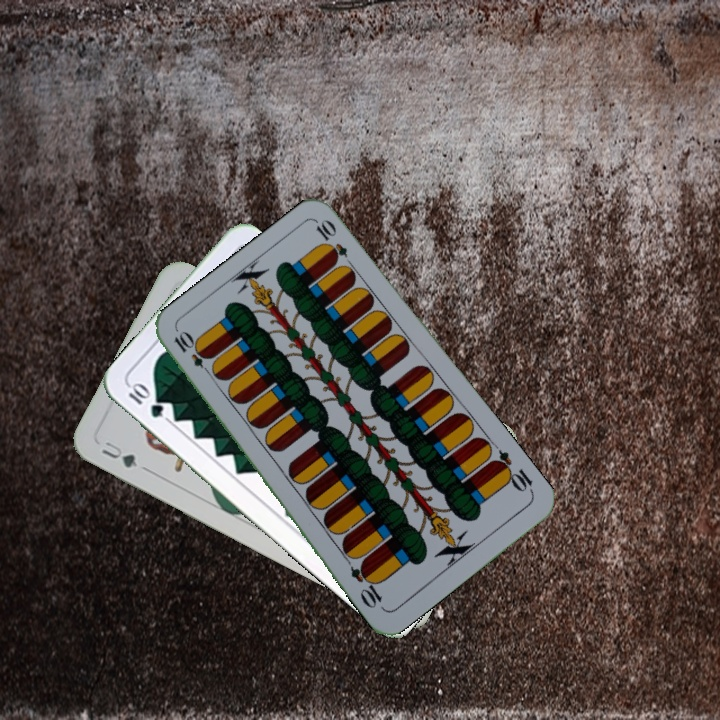E10: (487, 446, 536, 496), (170, 328, 216, 379)
G10: (123, 378, 166, 421)
GU: (97, 437, 140, 471)
